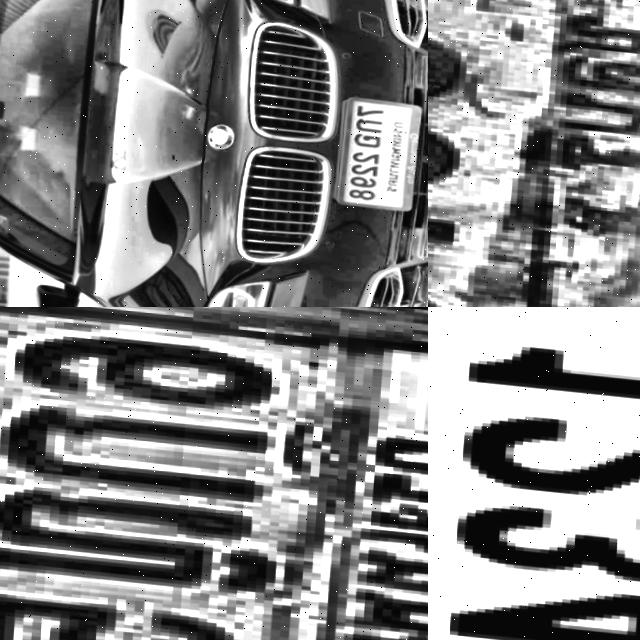license-plate: (0, 307, 428, 640), (428, 307, 640, 640), (428, 0, 640, 307), (337, 91, 424, 206)
